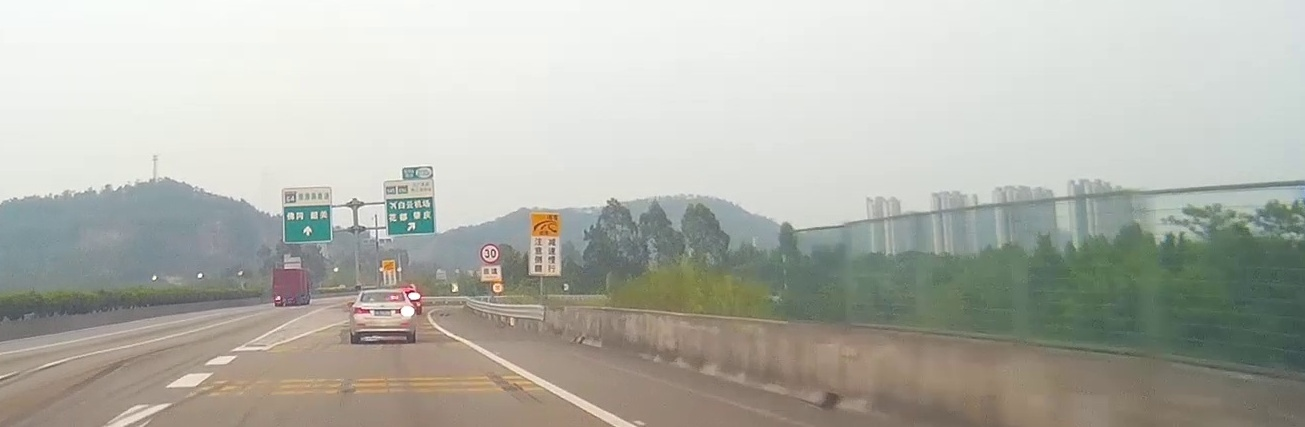L_light: (352, 307, 370, 314), (274, 295, 281, 301)
R_light: (395, 308, 412, 315), (297, 295, 303, 300)
T_light: (283, 269, 294, 271), (379, 291, 389, 293)
day-left: (272, 268, 303, 307)
day-right: (349, 289, 416, 344)
